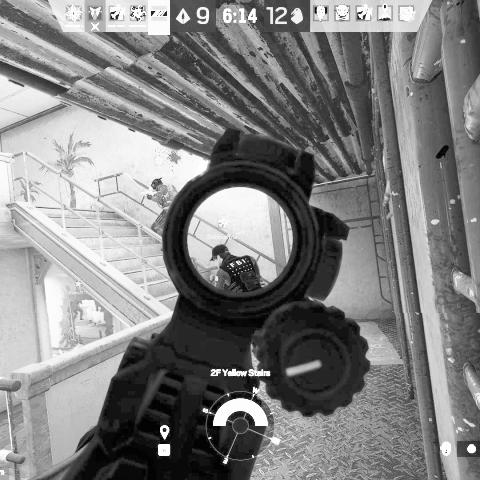Character: (140, 176, 180, 252), (211, 244, 263, 294)
Friend_label: (206, 217, 238, 241), (144, 153, 172, 177), (69, 279, 88, 296)
Head: (211, 244, 231, 268), (150, 178, 164, 188)
